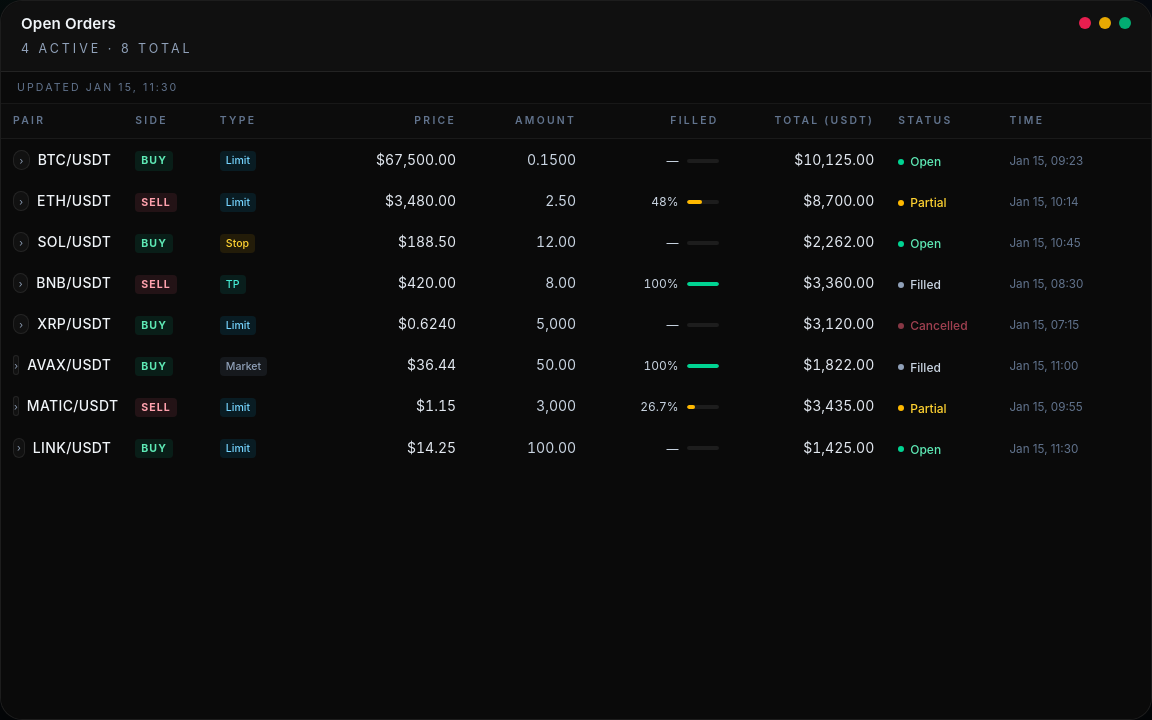
Scenario: TradingTable pointer column resize › toggles an expandable detail panel when clicking a row
The image size is (1152, 720).
Click the text "BTC/USDT" at {"x": 576, "y": 160}, box x1=1 y1=140 x2=1151 y2=181
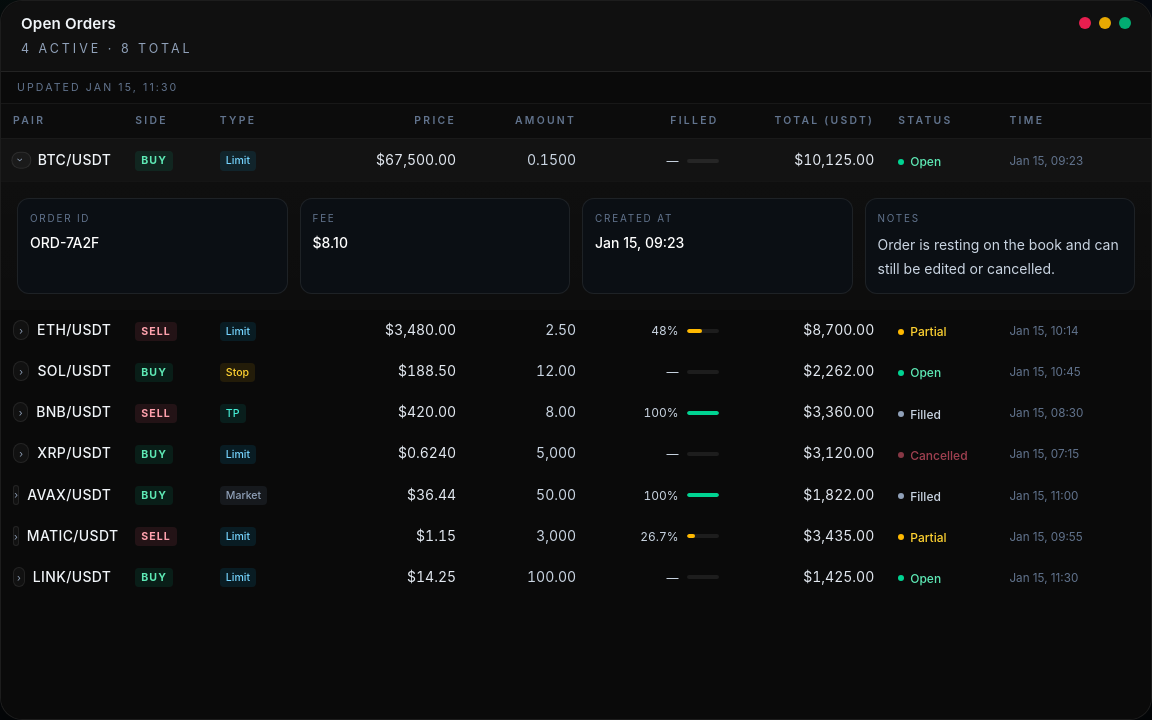
Expected: the text "Order ID" is shown, x1=30 y1=212 x2=90 y2=224
Expected: the text "ORD-7A2F" is shown, x1=30 y1=234 x2=99 y2=251
Expected: the text "Notes" is shown, x1=878 y1=212 x2=920 y2=224
Click the text "BTC/USDT" at {"x": 576, "y": 160}, box x1=1 y1=140 x2=1151 y2=181
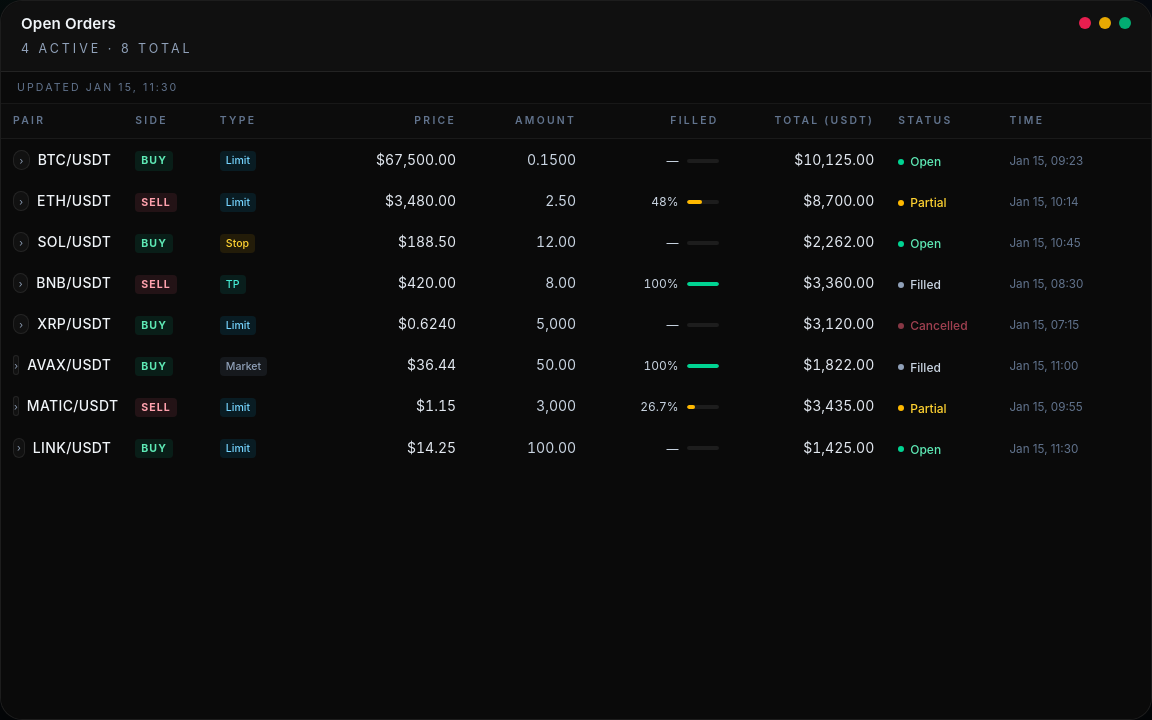
Expected: the text "ORD-7A2F" is gone
